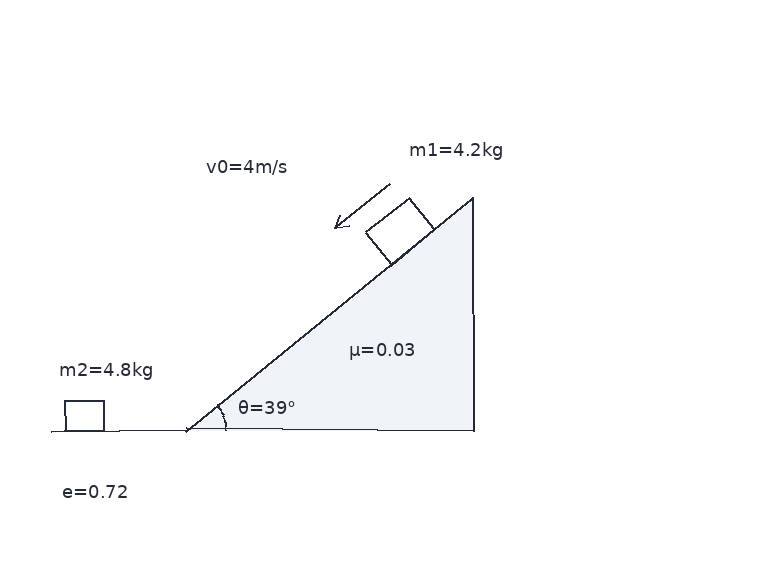block: (363, 195, 436, 266), (62, 399, 106, 432)
ramp: (184, 196, 475, 432)
